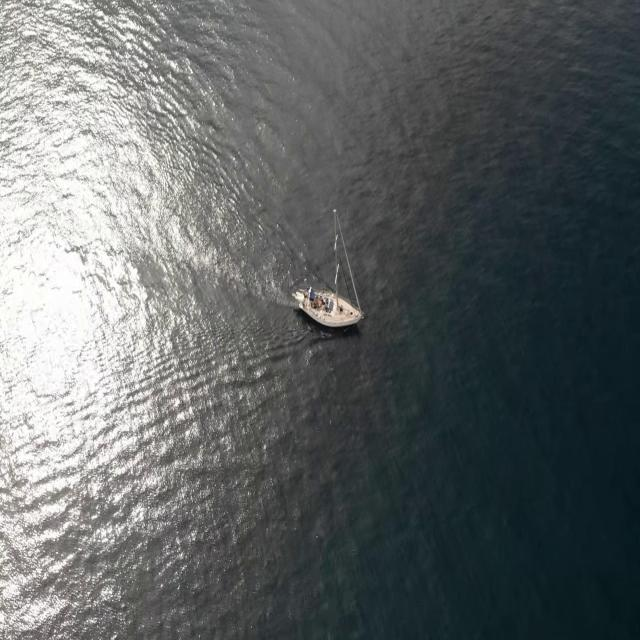sailboat: (291, 207, 366, 333)
